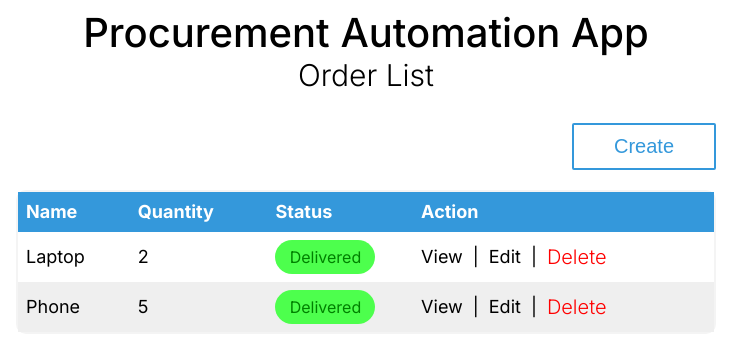
Test case: Order List Component › should handle delete
The width and height of the screenshot is (733, 351).
Click the text with test id "delete-button-1" at (577,257), box [547, 245, 606, 269]
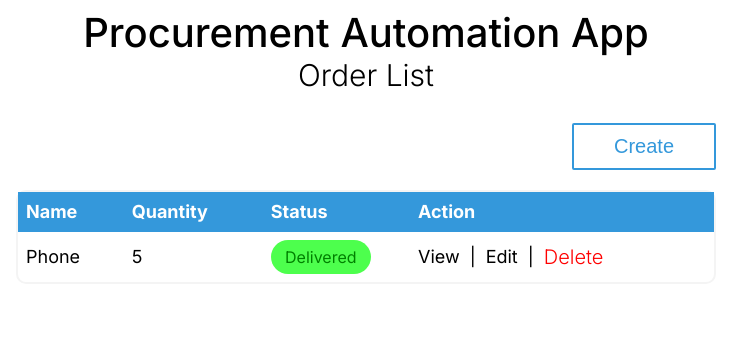
Now the text "Laptop" is gone
